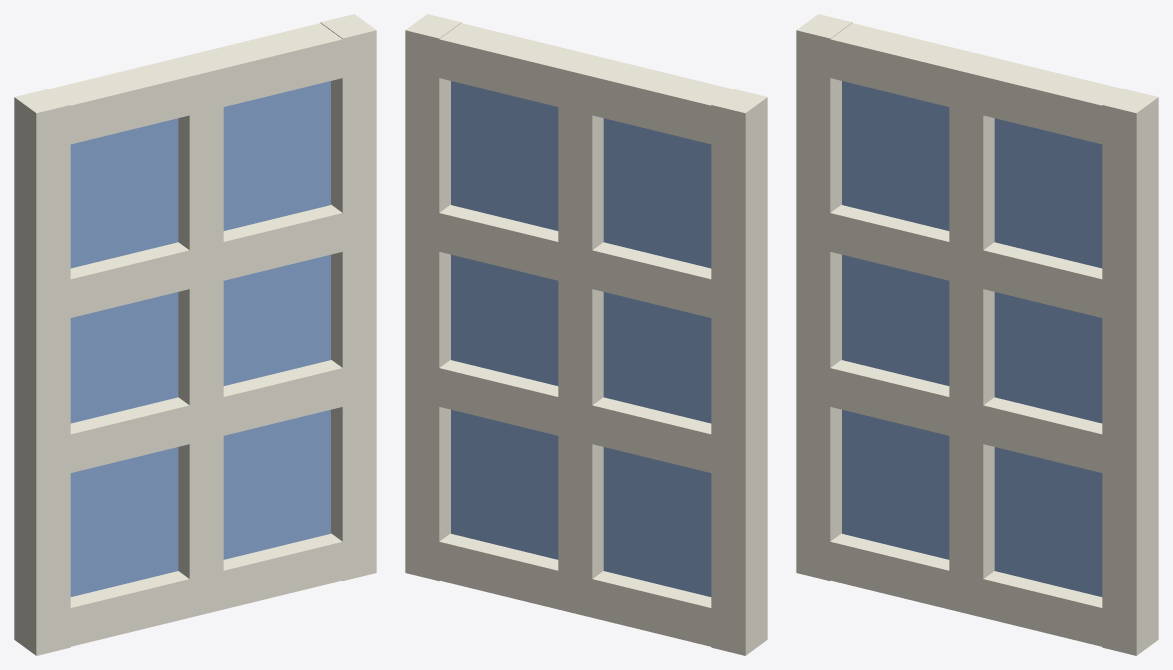
The model's file is ventana.obj.
The picture shows the model from 3 angles, left to right: view 1: azimuth 30°, elevation 25°; view 2: azimuth 150°, elevation 25°; view 3: azimuth 330°, elevation 25°; orthographic projection.
Parts seen in each view (by area): view 1: ventana:polySurface7; view 2: ventana:polySurface7; view 3: ventana:polySurface7.
Boxes of the visible parts, x1,y1,x2,y2 form: ventana:polySurface7: (14,14,376,655); ventana:polySurface7: (405,14,767,655); ventana:polySurface7: (796,14,1158,655).
Bounding box in the file's own units: 0.7188 × 1.1 × 0.0813.
Materials: 2 (2 with a texture image).
